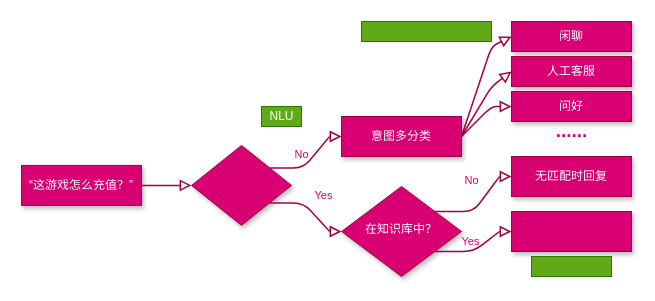
Image size: 655x301. Some labels were removed from this diagram. Here are the shapes that lost their labels. From the top down, the centre of each, then its label:
At [426,31]: "CHITCHAT SERVICE".
At [242,186]: "问答二分类".
At [572,232]: "回答".
At [571,266]: "FAQ Retrival".
